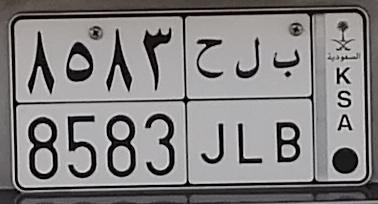3: (141, 27, 175, 176)
5: (65, 41, 97, 179)
8: (27, 29, 59, 180), (105, 27, 136, 177)
B: (272, 47, 302, 163)
J: (195, 38, 227, 164)
L: (234, 36, 264, 165)
